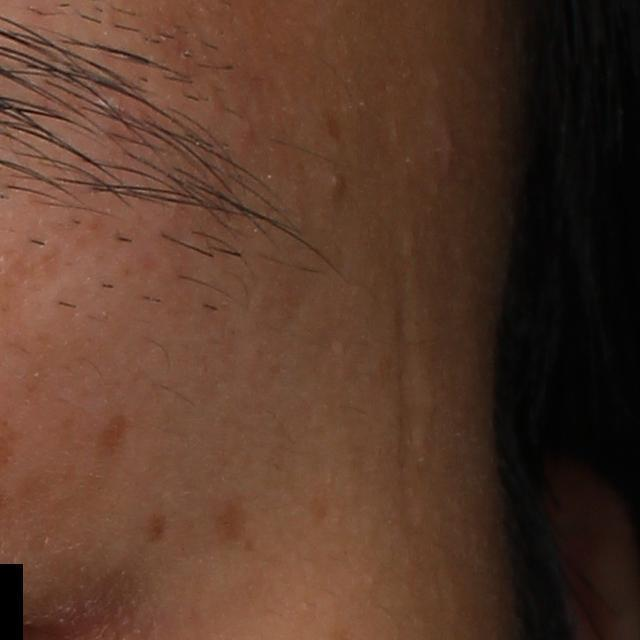comedo: (324, 165, 351, 197)
melasma: (94, 414, 134, 467), (214, 495, 252, 543), (141, 512, 171, 550)
